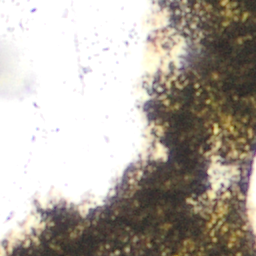cement_matrix: (8, 0, 255, 255), (206, 152, 240, 201)
gravel_crushed_stones: (0, 0, 189, 255), (207, 153, 239, 200), (249, 161, 255, 227)
